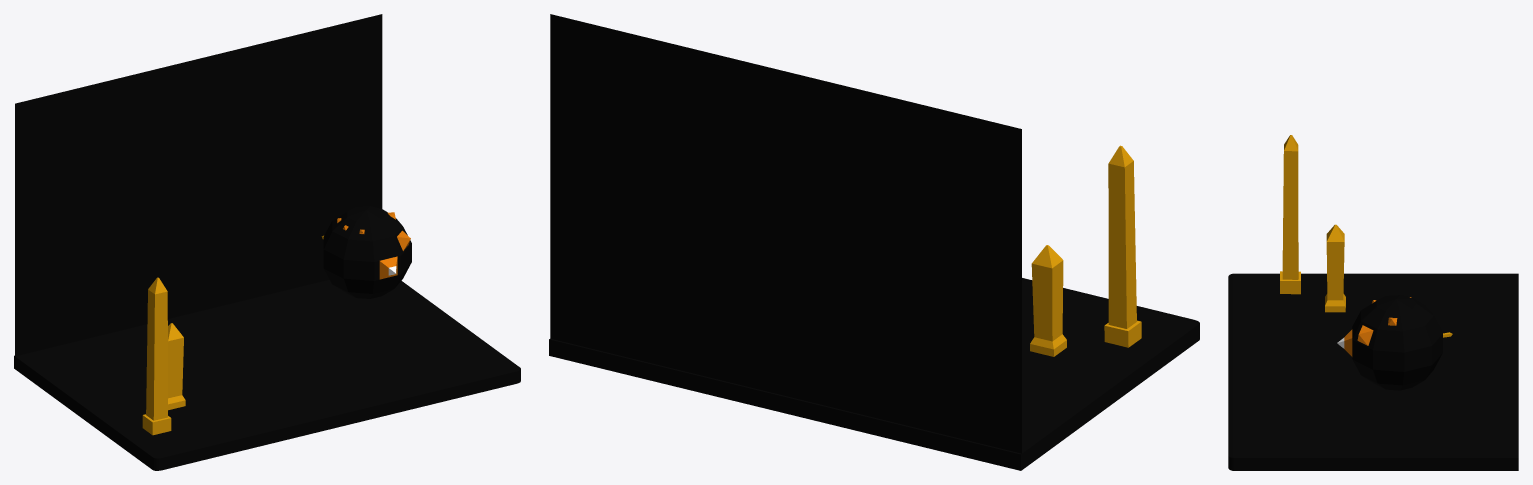
File: room4.glb
3 views of the same model, side by side, from view 1: azimuth 30°, elevation 25°; view 2: azimuth 150°, elevation 25°; view 3: azimuth 270°, elevation 25° (orthographic). The views are drawn at different scales.
Parts seen in each view (by area): view 1: Sphere; view 2: Sphere; view 3: Sphere.
Part boxes in pixels (bbox=[...]): Sphere: bbox=[14, 14, 520, 470]; Sphere: bbox=[549, 14, 1199, 470]; Sphere: bbox=[1228, 135, 1518, 470].
Size of the model in its own units: 6 by 4.14 by 4.
